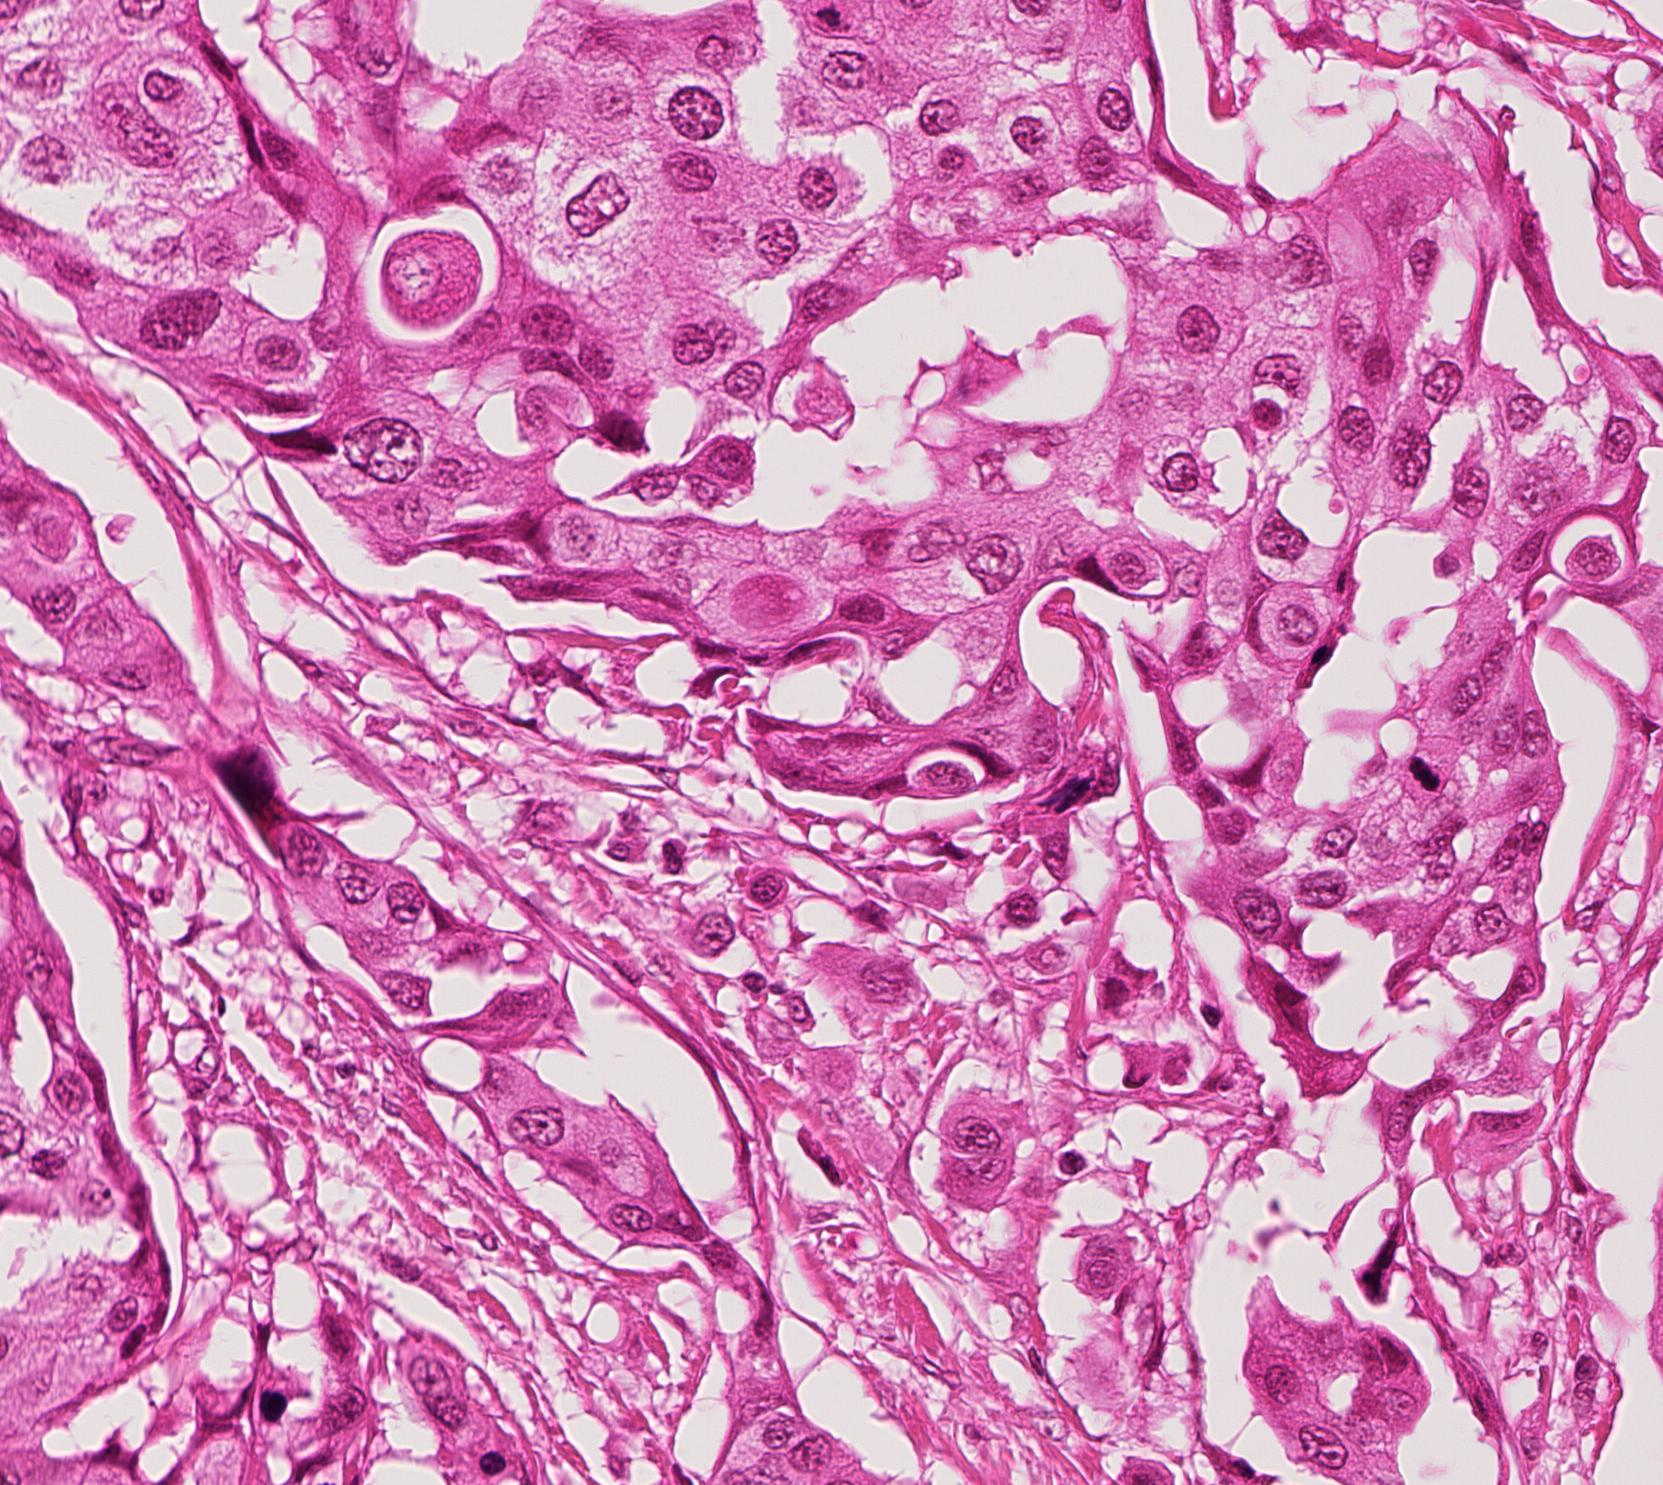mitosis: (1393, 735, 1454, 796)
